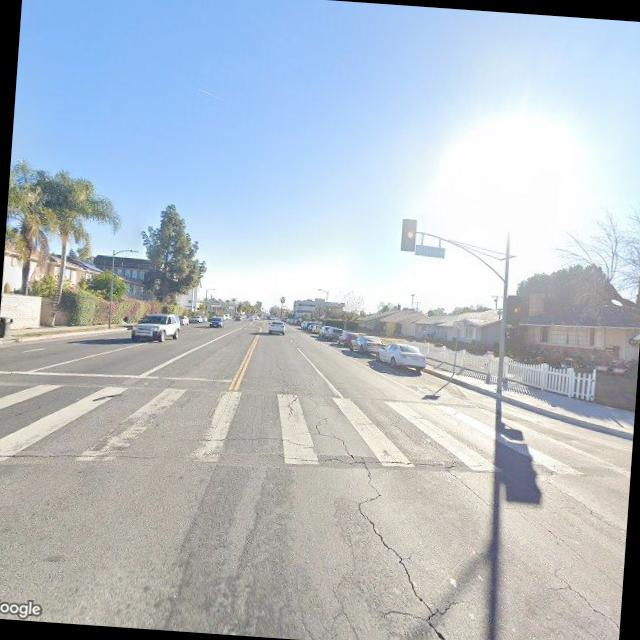crack: (301, 411, 470, 640), (298, 451, 514, 487), (0, 439, 160, 472), (157, 425, 313, 457), (538, 474, 624, 530), (540, 566, 620, 626), (275, 361, 305, 420)
